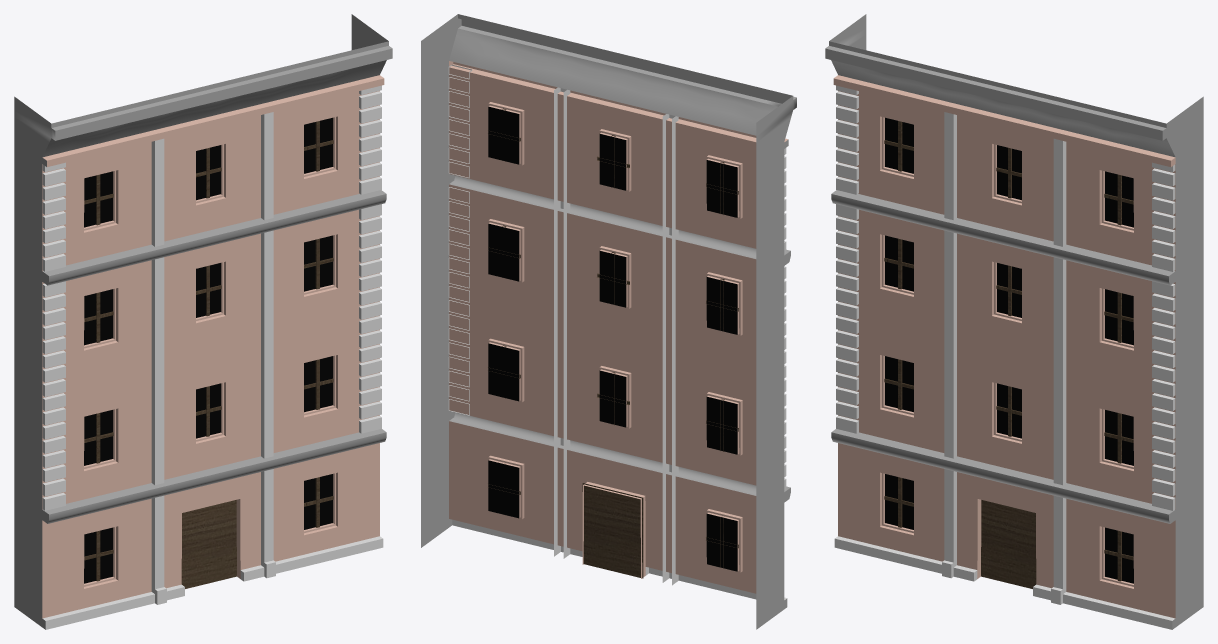
File: Building_04.fbx
3 views of the same model, side by side, from view 1: azimuth 30°, elevation 25°; view 2: azimuth 150°, elevation 25°; view 3: azimuth 330°, elevation 25° (orthographic).
Parts seen in each view (by area): view 1: Building_04; view 2: Building_04; view 3: Building_04.
Boxes of the visible parts, bbox=[...] form: Building_04: bbox=[14, 14, 392, 629]; Building_04: bbox=[421, 14, 796, 629]; Building_04: bbox=[825, 14, 1203, 629].
Bounding box in the file's own units: 10.15 × 14.67 × 2.14.
